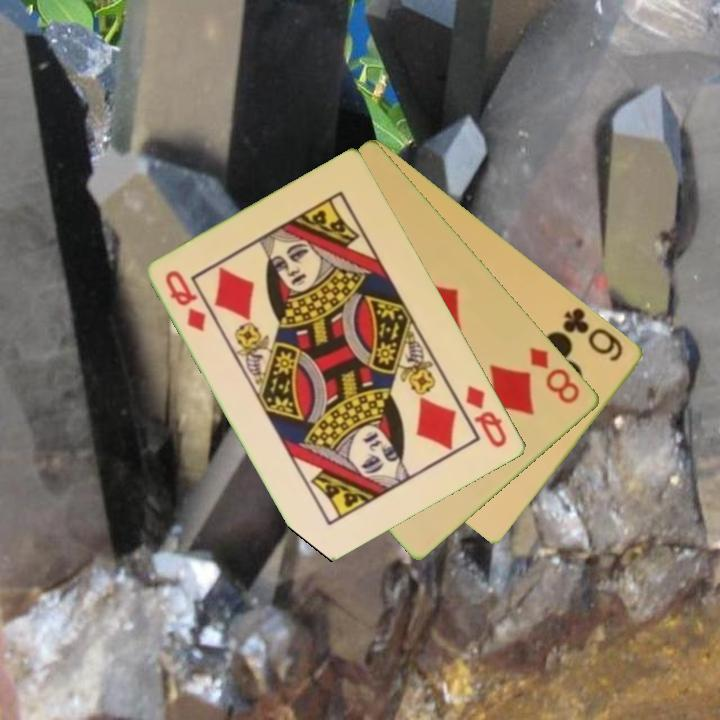6c: (560, 304, 627, 365)
8d: (526, 343, 584, 407)
Qd: (462, 381, 511, 451), (162, 266, 210, 335)
